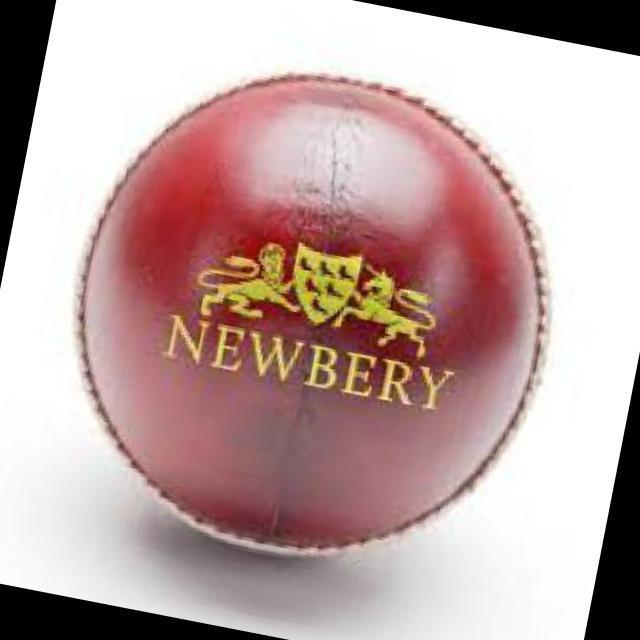-: (27, 32, 594, 596)
